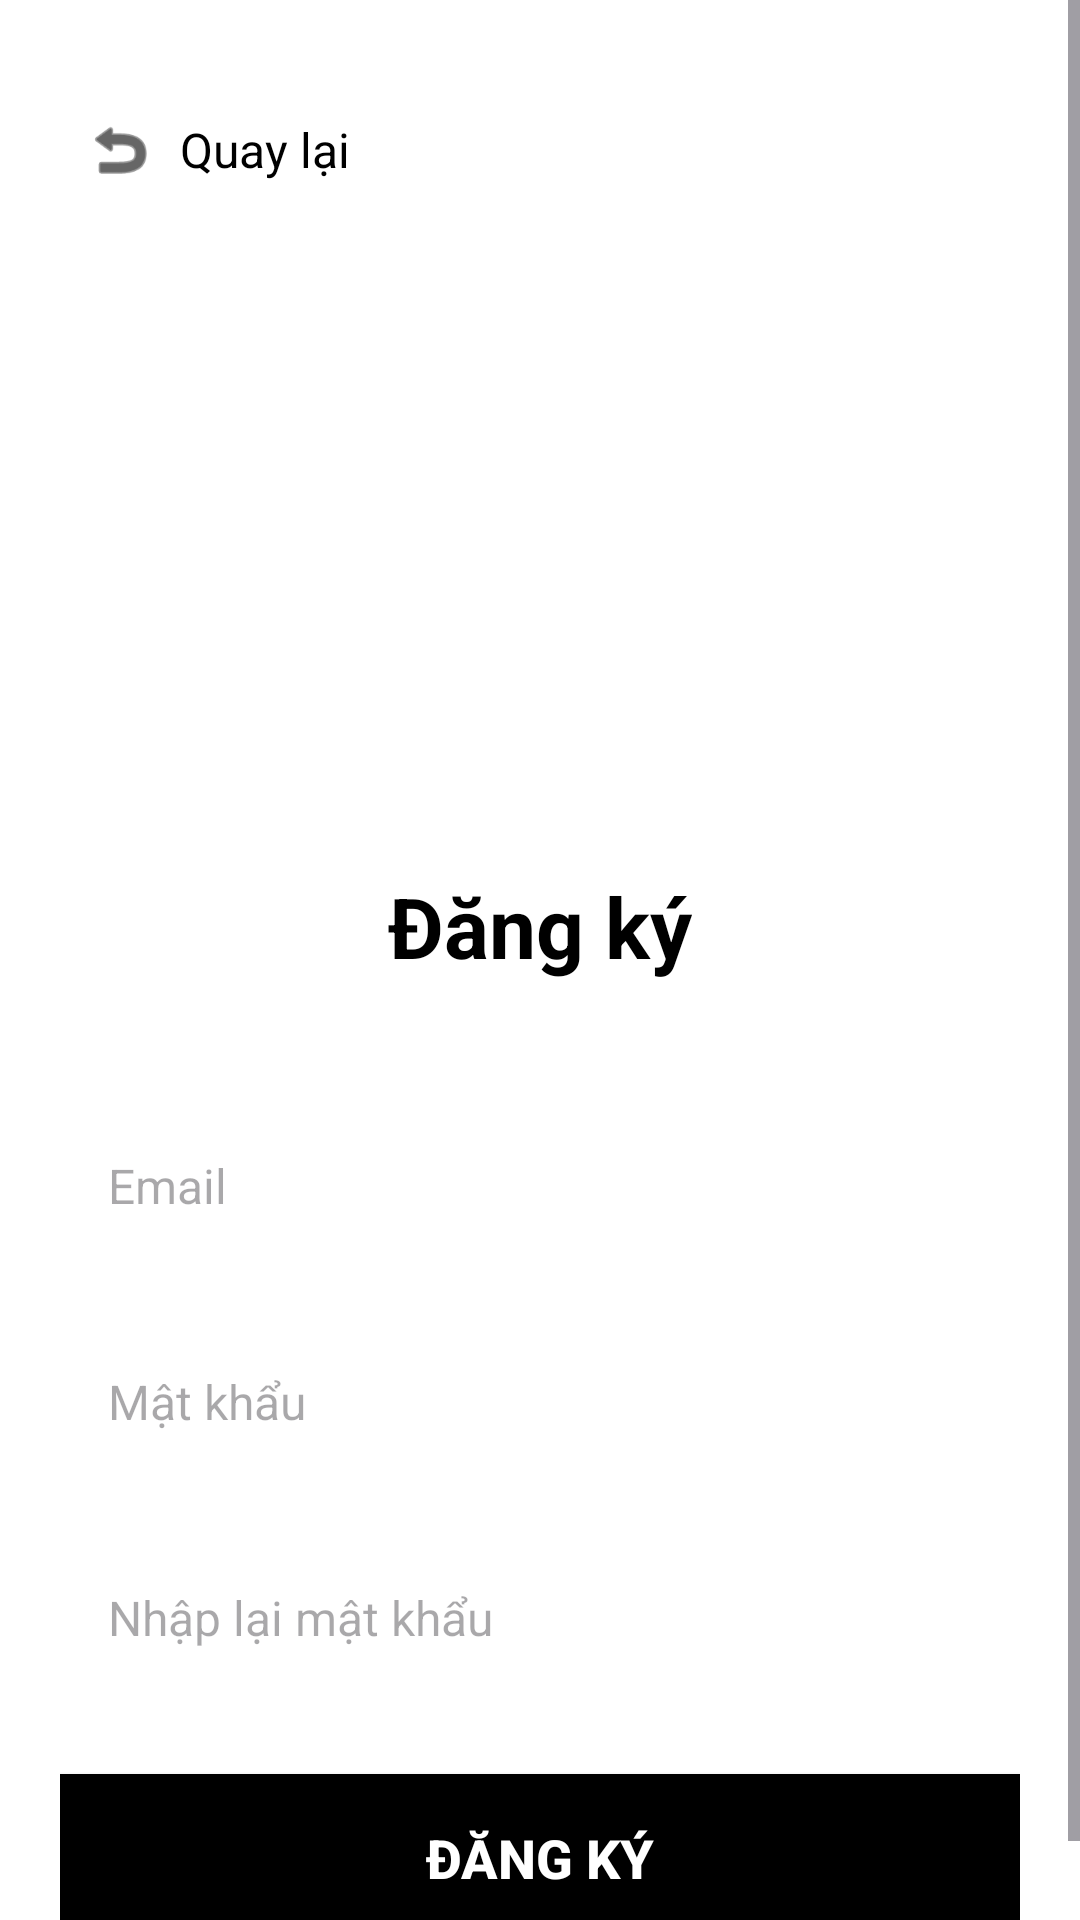

Where to tap for icons on this 1080×1920 app screen, as point (x, y):
revert: point (121, 150)
